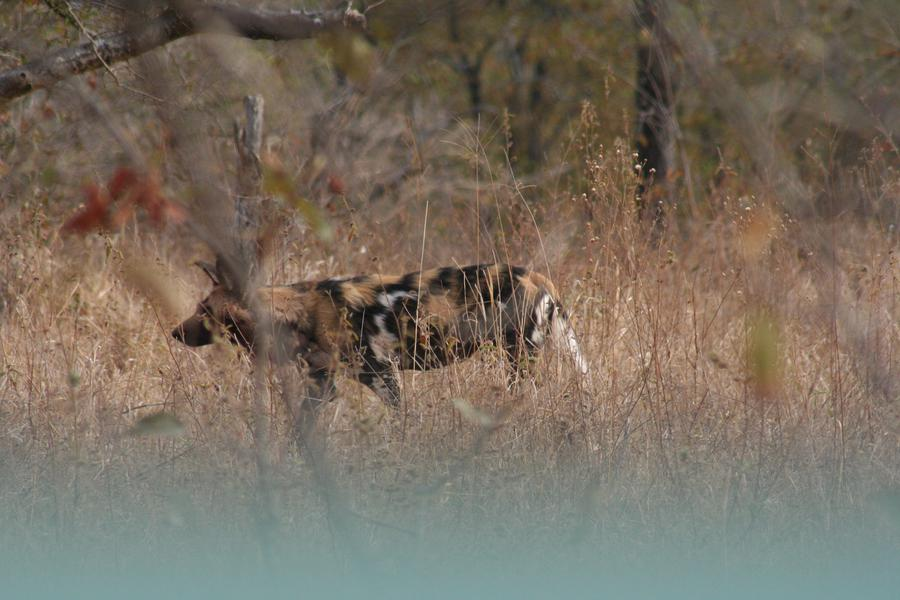wilddog: (195, 271, 544, 365)
